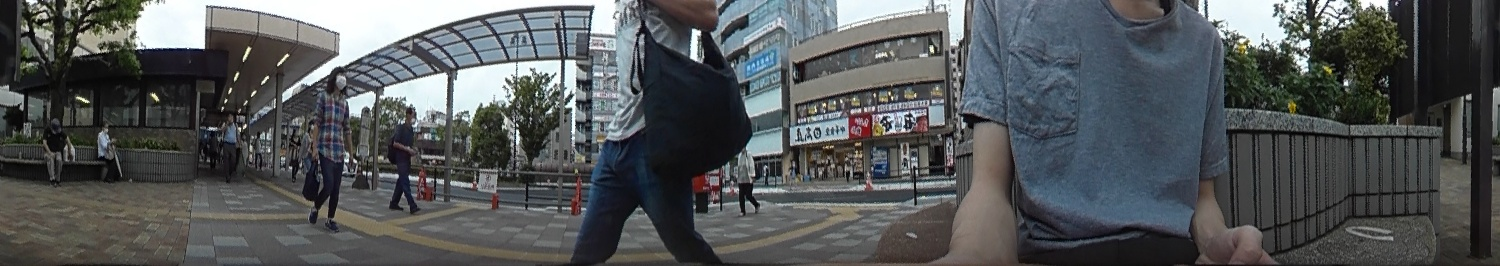difficult_person: (286, 128, 302, 181), (303, 121, 316, 184), (254, 130, 267, 166), (205, 130, 217, 163), (238, 130, 250, 162), (787, 157, 797, 185)
person: (583, 0, 743, 263), (308, 62, 349, 229), (391, 108, 424, 211), (732, 143, 763, 213), (44, 118, 72, 187), (95, 122, 124, 182), (219, 112, 240, 181)
